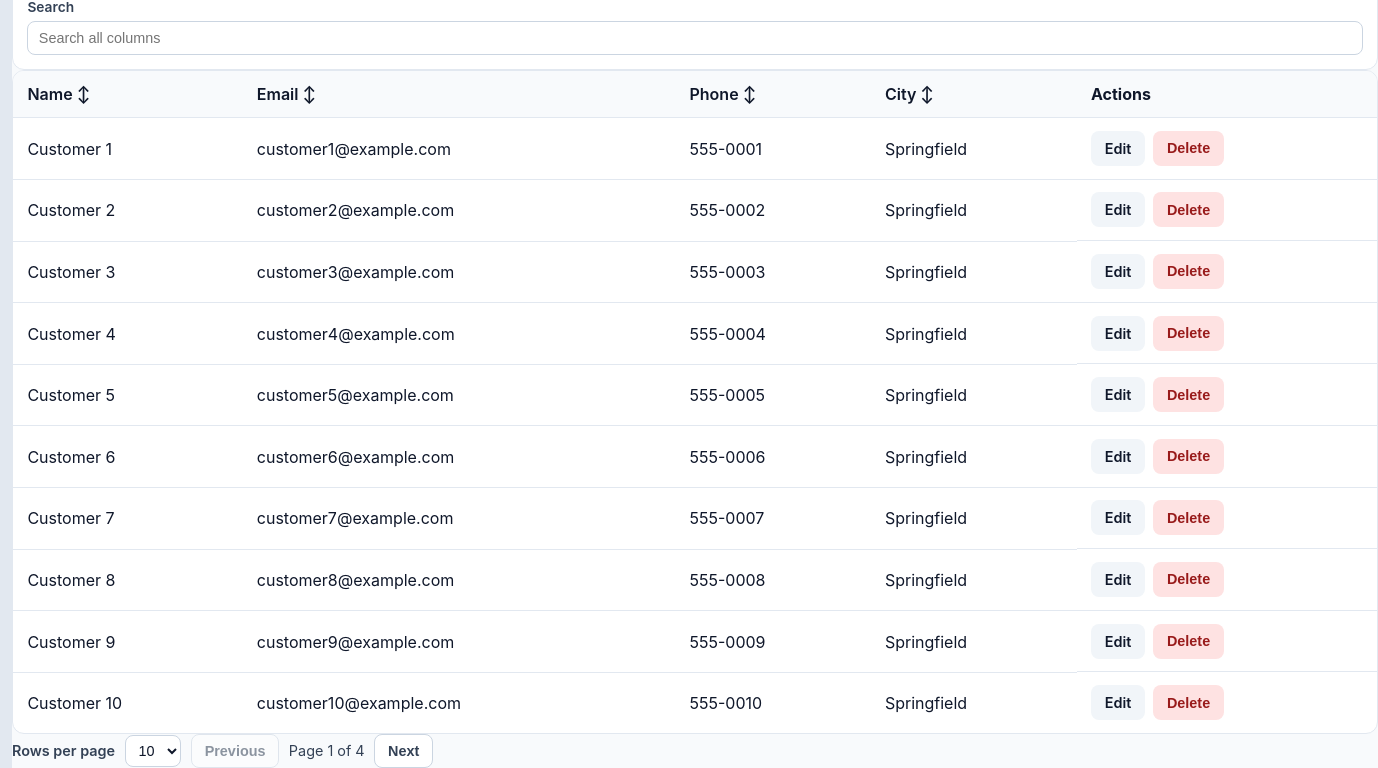
CustomerList › updates pagination when rows per page changes
(page scrolled)
Expected: the text "Page 1 of 4" is shown, [289, 742, 365, 759]
Select "25" in the dropdown labelled "Rows per page" at (153, 751), box [125, 734, 181, 767]
(page scrolled)
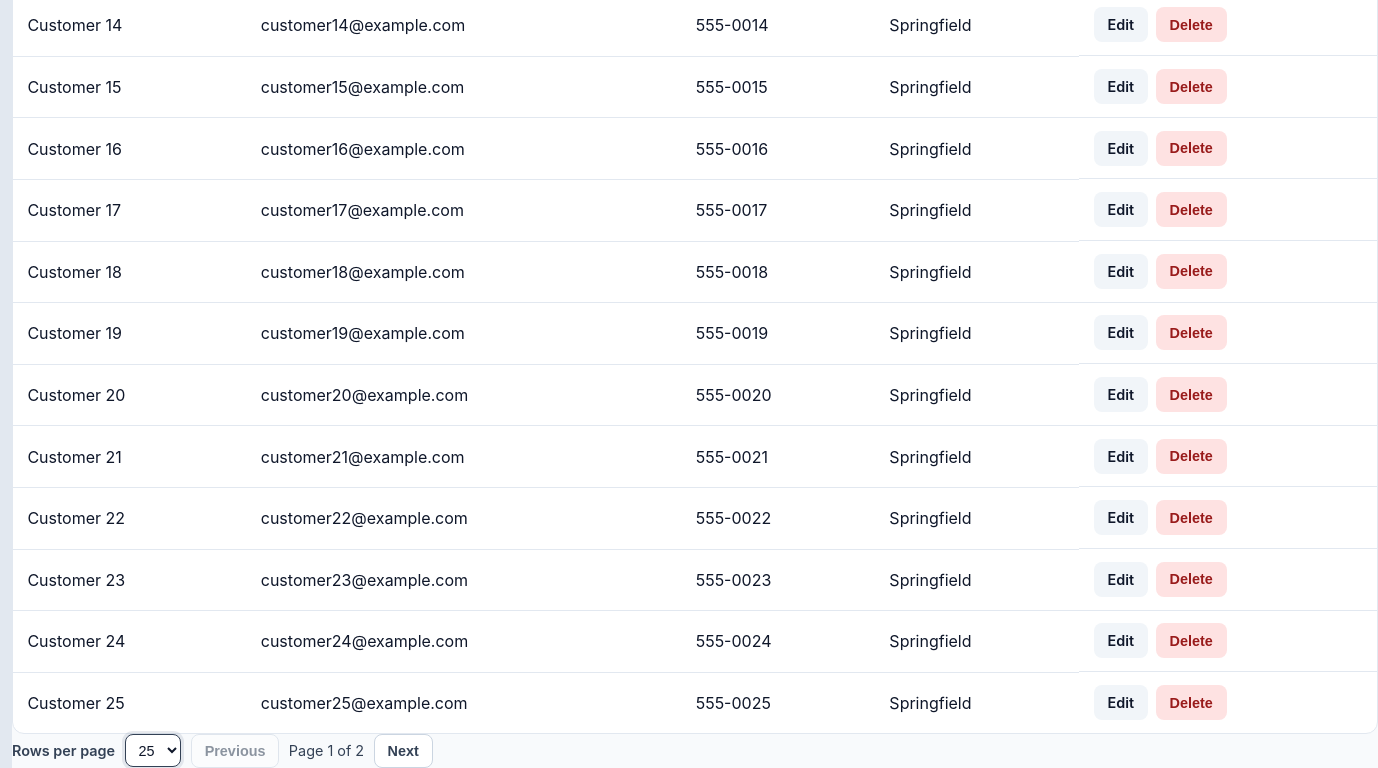
Now the text "Page 1 of 2" is shown, box [289, 742, 364, 759]
Now the text "Customer 25" is shown, box [13, 672, 246, 733]
Select "50" in the dropdown labelled "Rows per page" at (153, 751), box [125, 734, 181, 767]
(page scrolled)
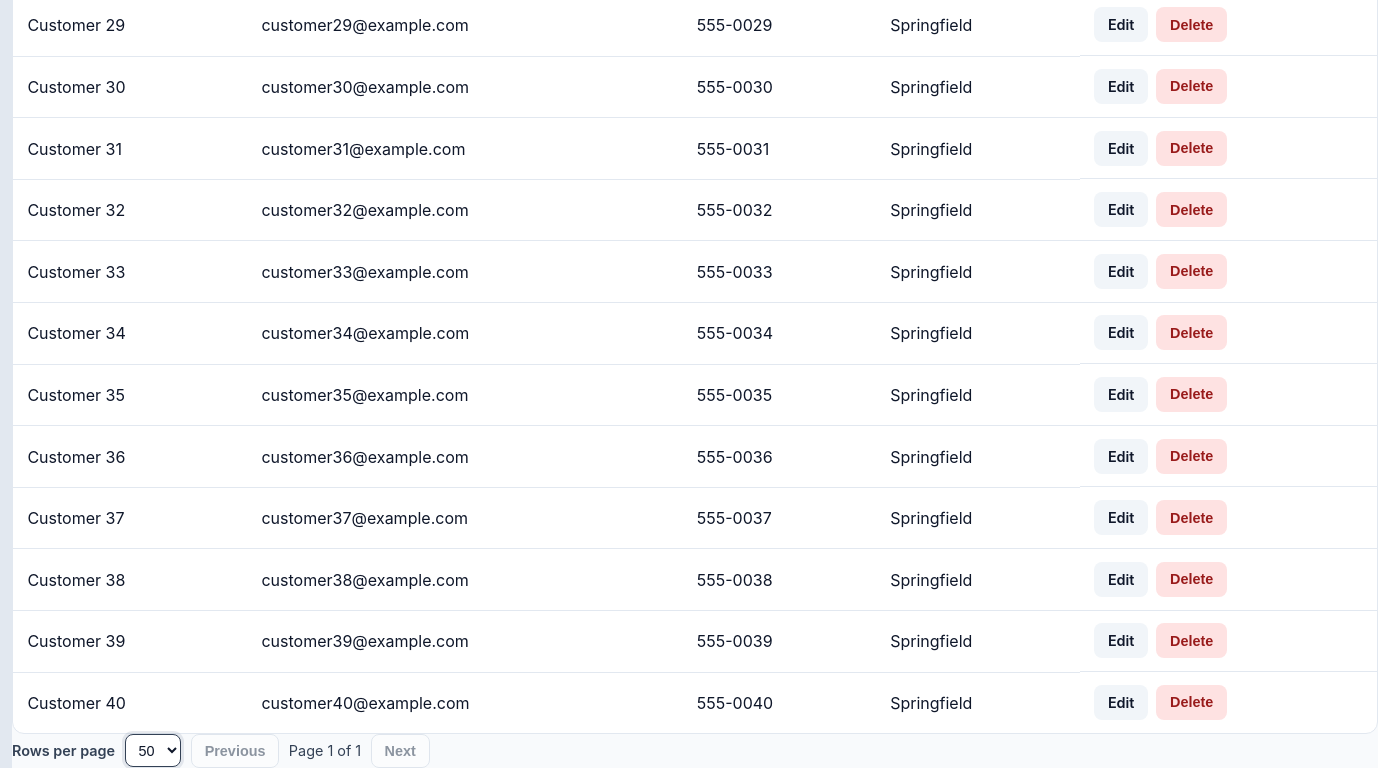
Now the text "Page 1 of 1" is shown, box [289, 742, 361, 759]
Now the button "Next" is disabled, box [371, 734, 430, 767]
Now the text "Customer 40" is shown, box [13, 672, 247, 733]
